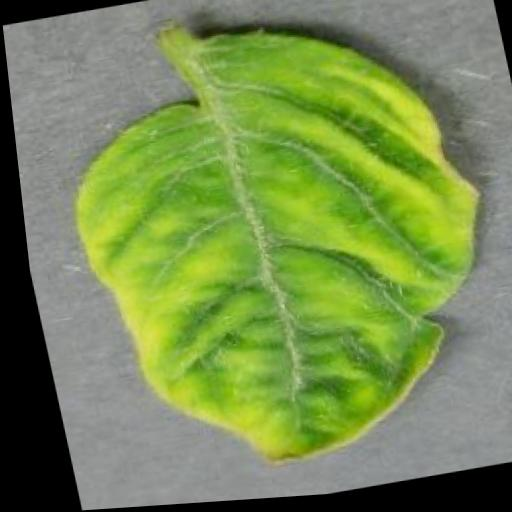Yellow Leaf Curl Virus: (39, 0, 512, 496)
